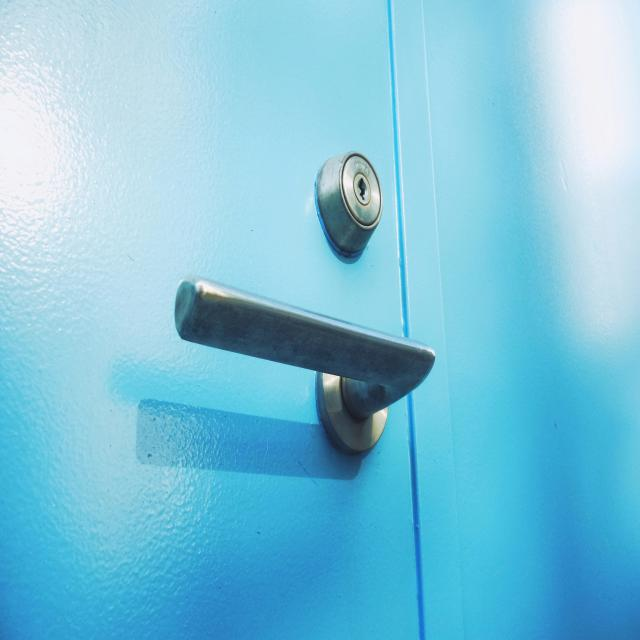door-handle: (175, 276, 435, 455)
